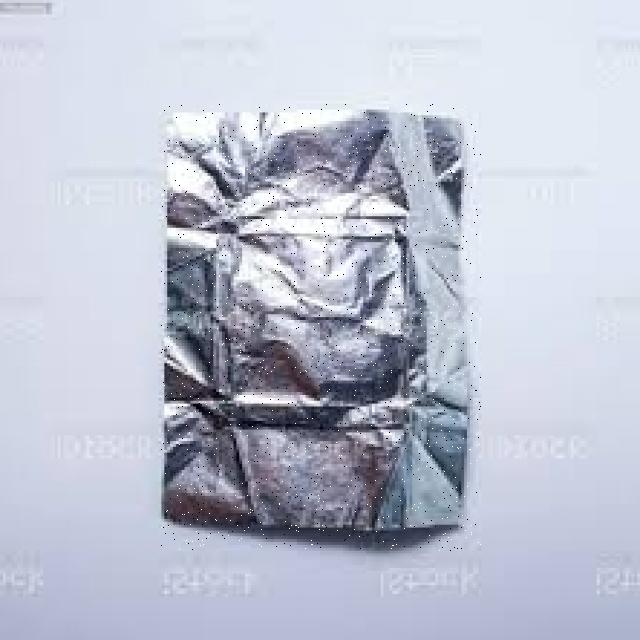metal: (162, 104, 481, 550)
